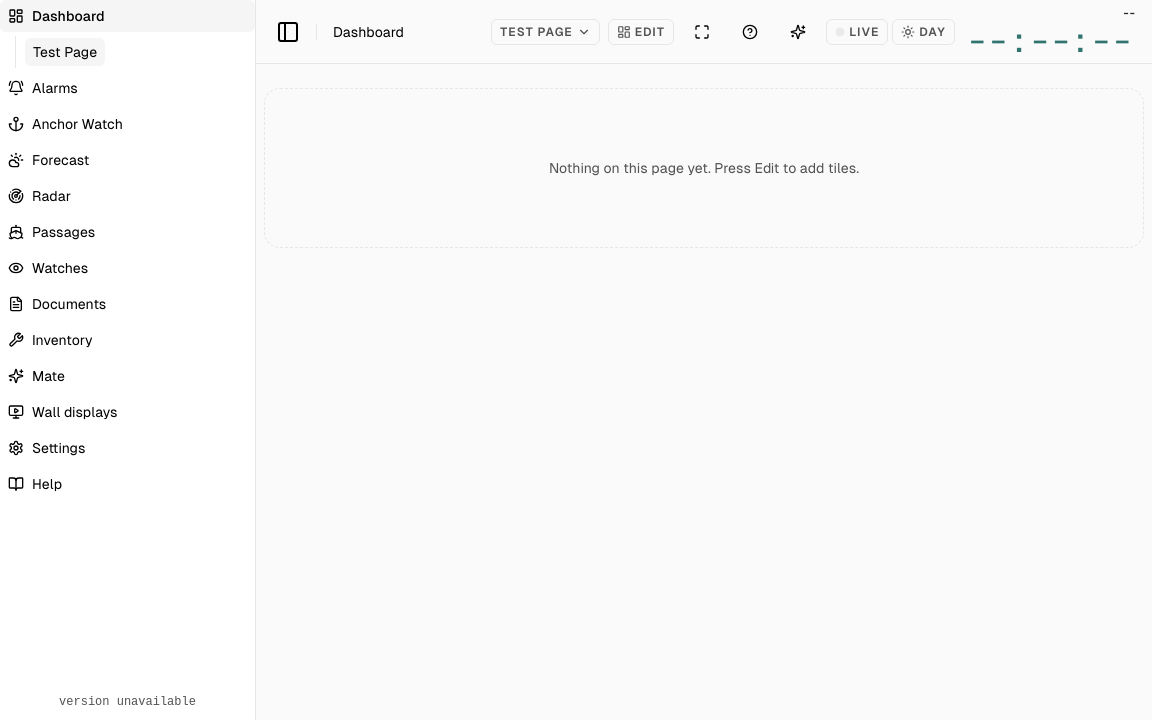
Scenario: creating a dashboard page › Enter commits once; a blur right after does not send a duplicate PATCH
Click the button with aria-label "Switch dashboard page" at coordinates (545, 32), box [491,18,600,44]
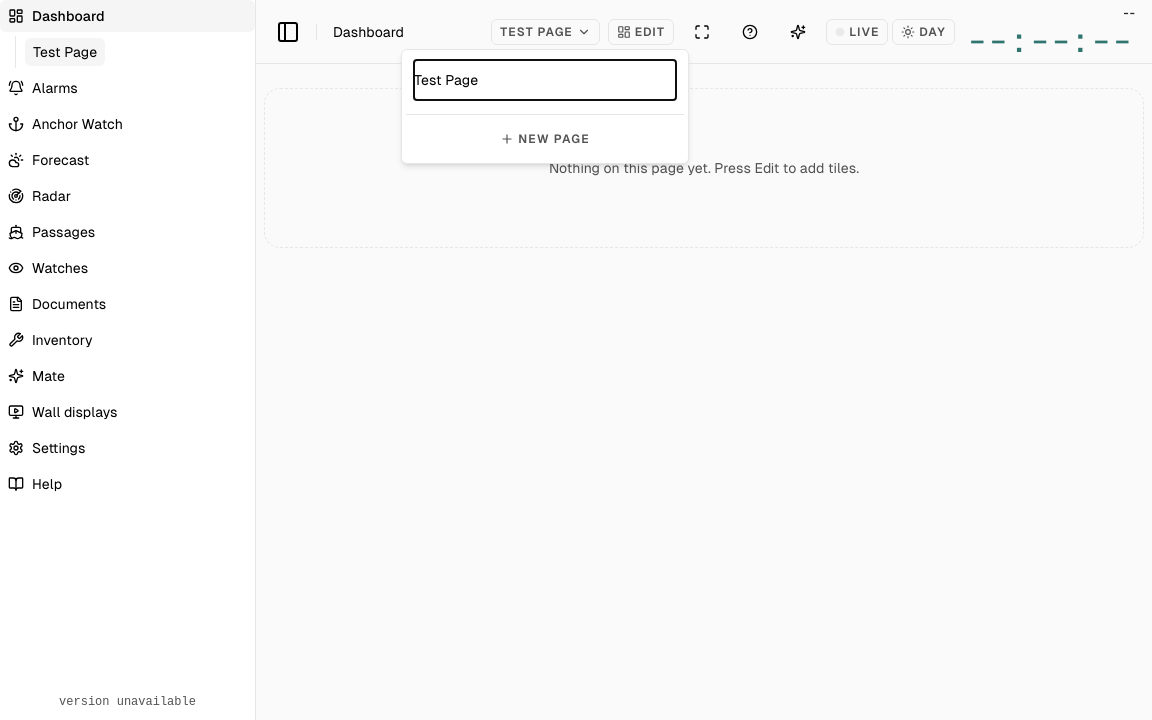
Click the button "New Page" at coordinates (545, 139), box [406,119,684,159]
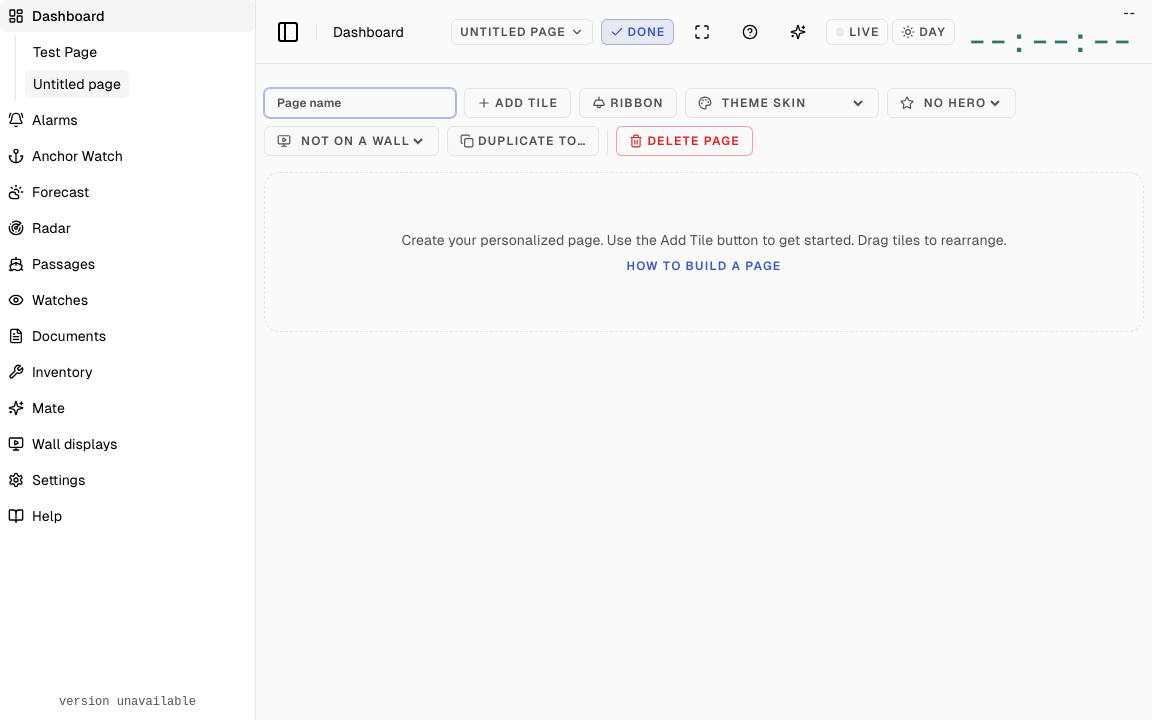
Expected: the field labelled "Page name" is shown
Type "Anchored" into the field labelled "Page name" at coordinates (360, 103), box [264,88,456,118]
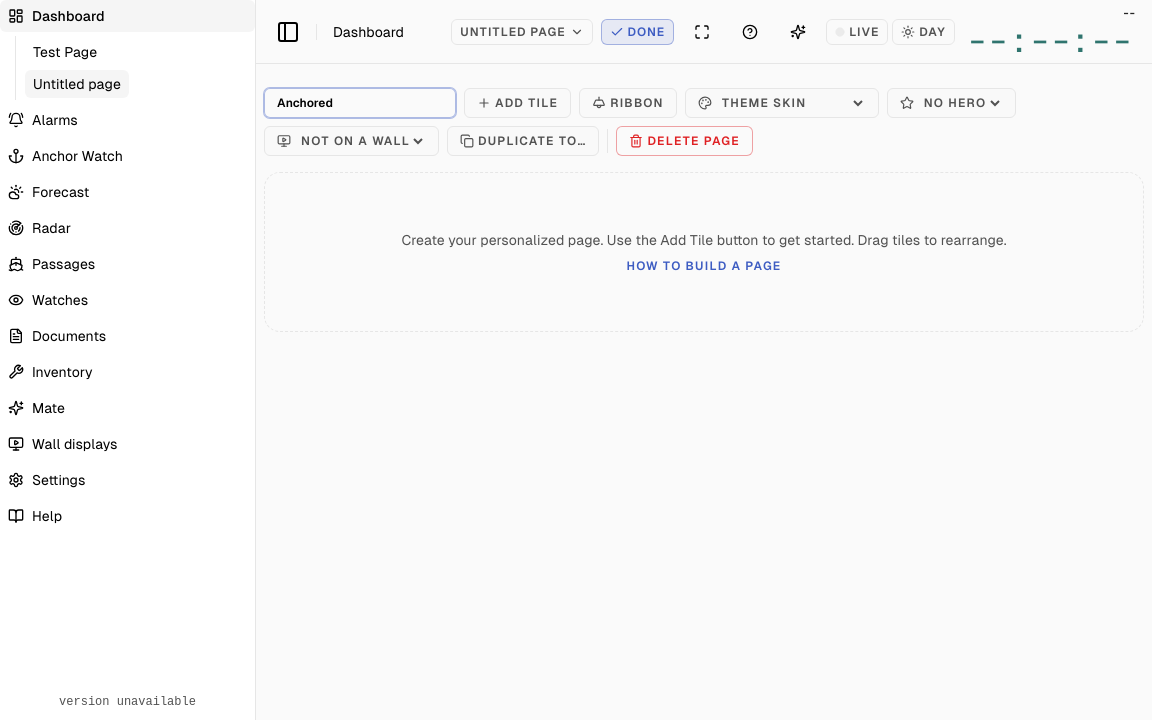
Press Enter in the field named "Page name", box [264,88,456,118]
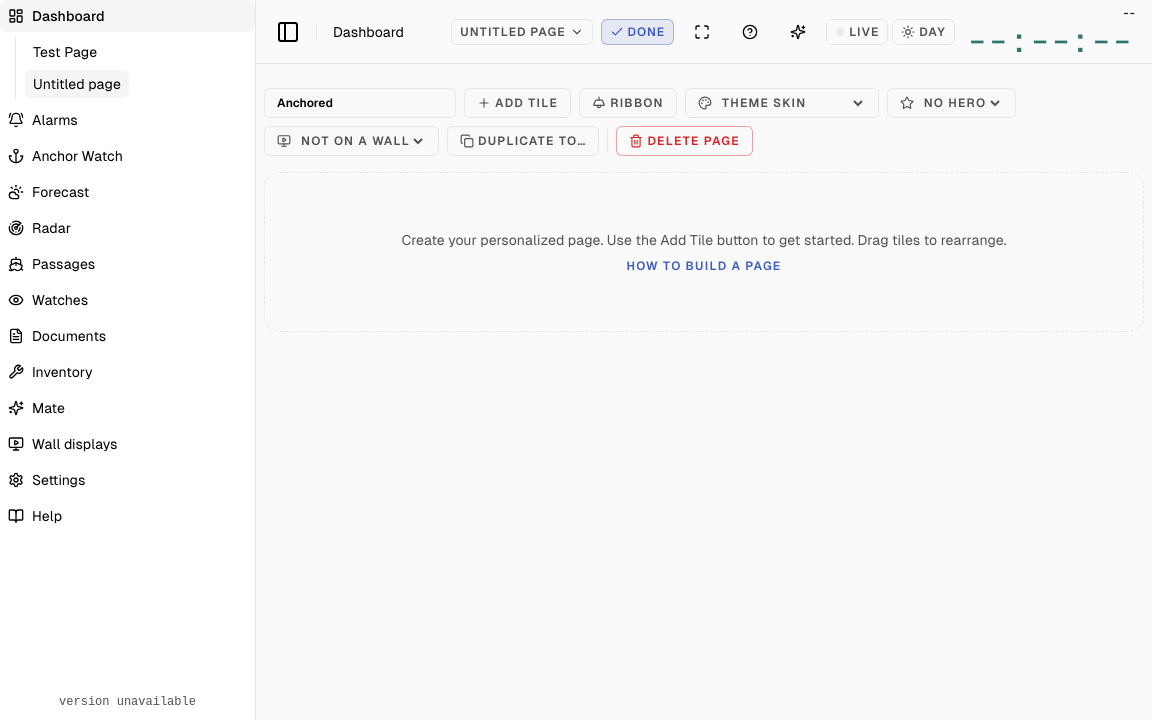
Leave the field named "Page name", box [264,88,456,118]
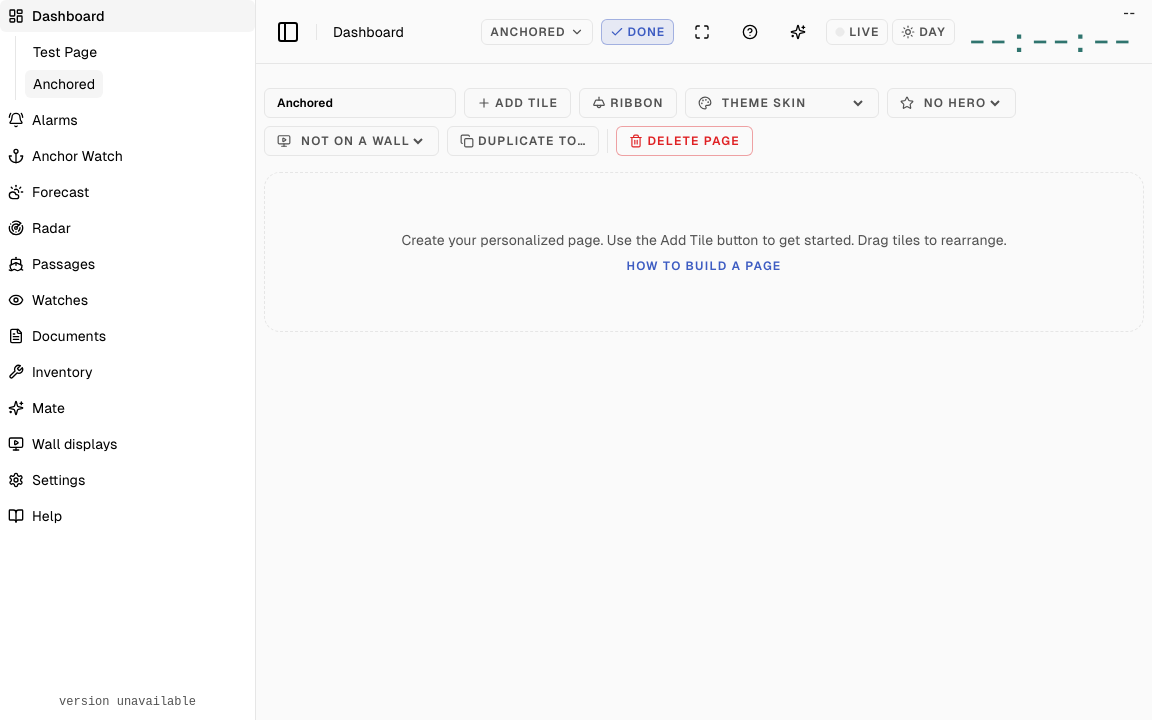
Expected: the 2nd text "Anchored" is shown, [33,74,95,94]
